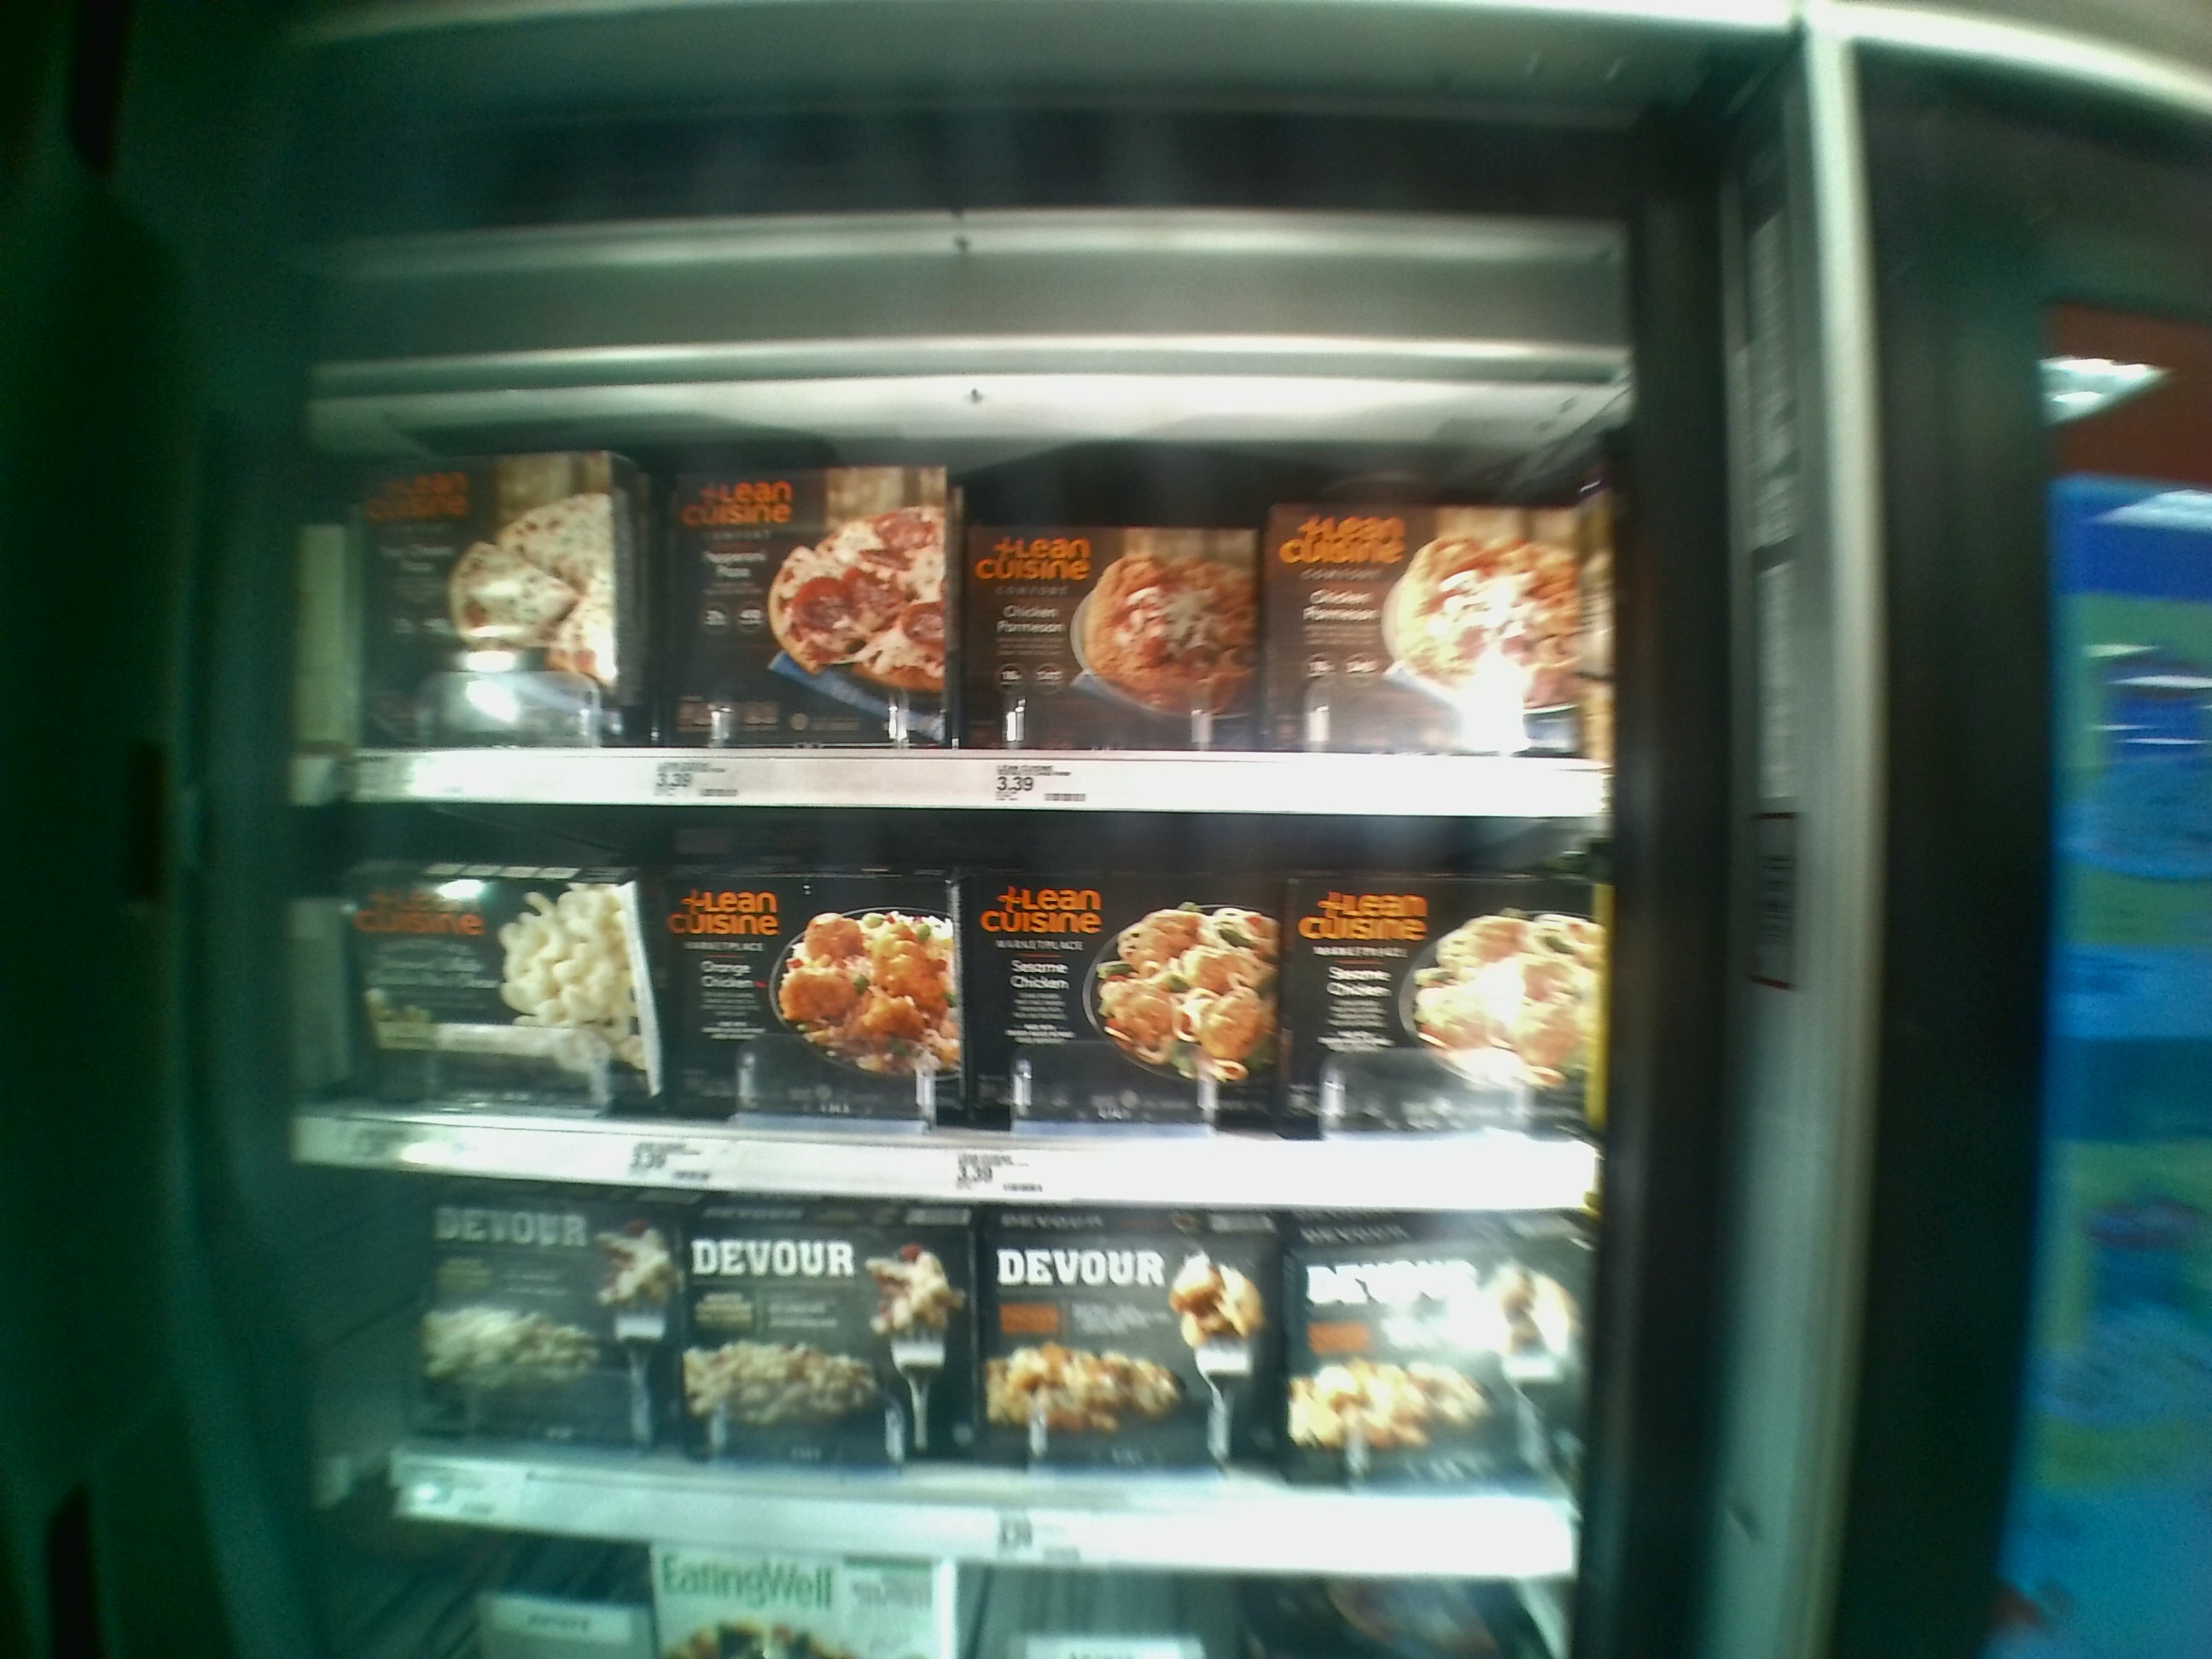shelf: (310, 375, 1595, 828), (294, 807, 1604, 1213), (303, 1168, 1587, 1579)
